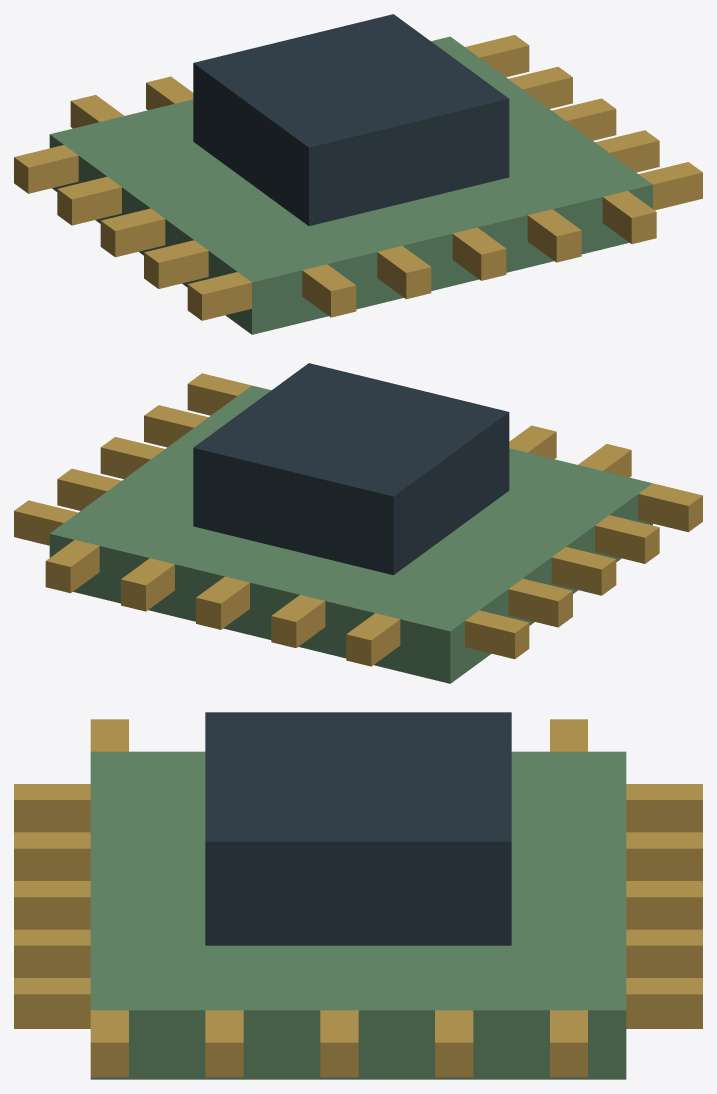
Rendered from iot-05.glb.
The picture shows the model from 3 angles, top to bottom: view 1: azimuth 30°, elevation 25°; view 2: azimuth 150°, elevation 25°; view 3: azimuth 270°, elevation 25°; orthographic projection. The views are drawn at different scales.
Parts seen in each view (by area): view 1: Sensor board; view 2: Sensor board; view 3: Sensor board.
Boxes of the visible parts, x1,y1,x2,y2 form: Sensor board: (14,14,702,334); Sensor board: (14,363,702,683); Sensor board: (14,712,702,1079).
Size of the model in its own units: 1.6 by 0.4 by 1.44.
